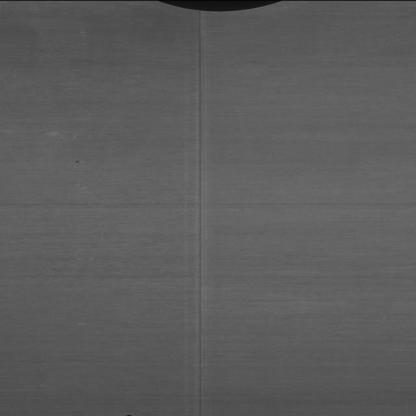punching_hole: (113, 408, 148, 416)
welding_line: (187, 0, 213, 414)
